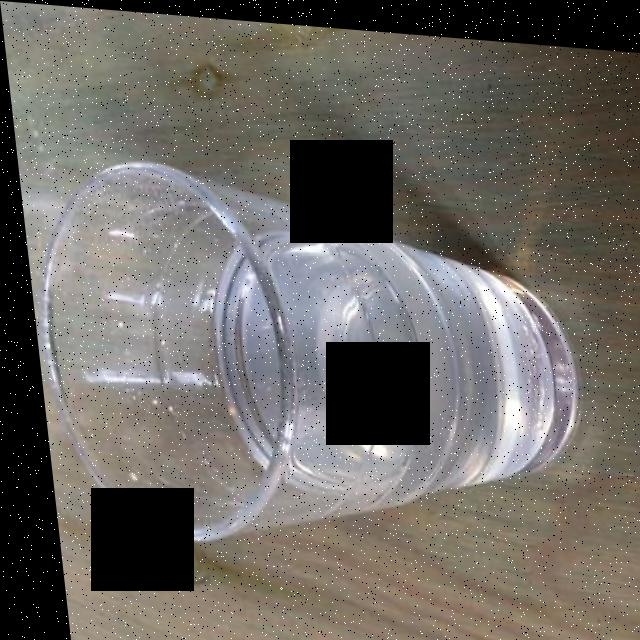glucose-drink-50g: (194, 218, 534, 494)
